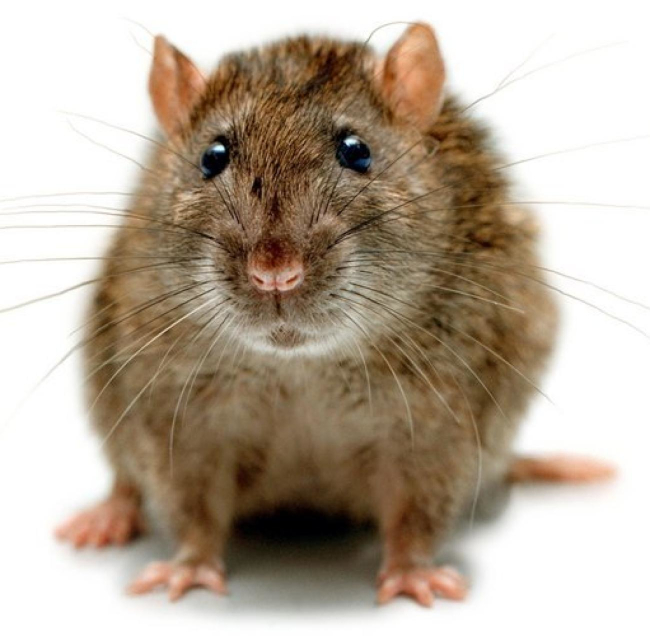rat: (38, 9, 578, 613)
